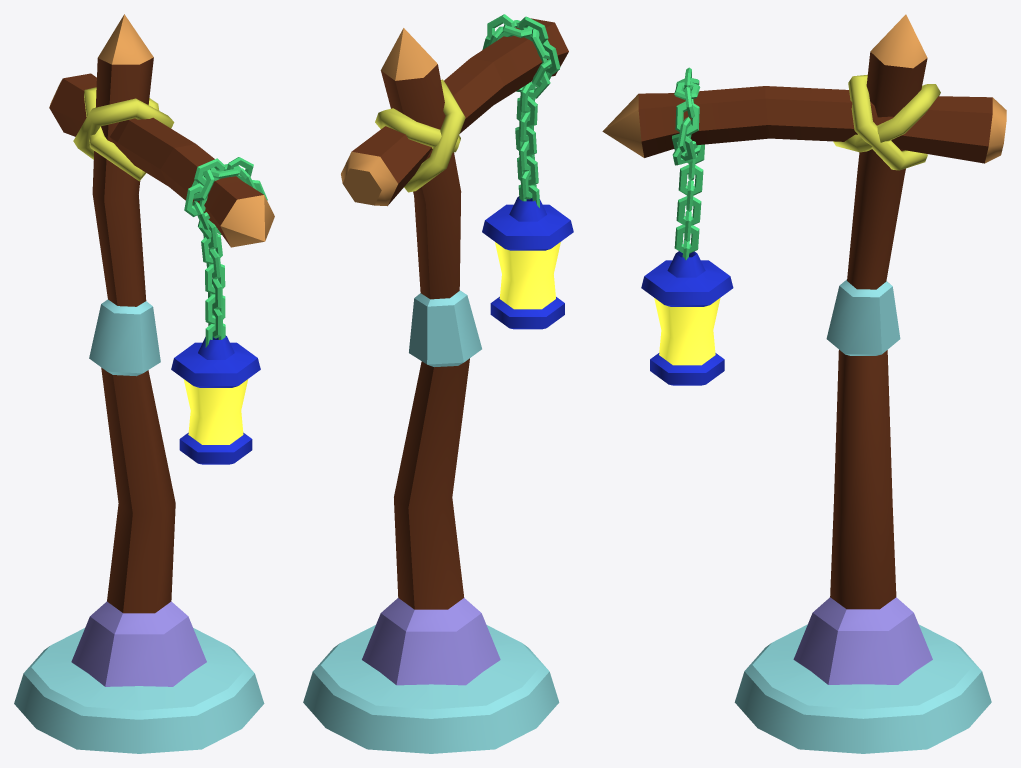
Rendered from back_7_lp.fbx.
The picture shows the model from 3 angles, left to right: view 1: azimuth 30°, elevation 25°; view 2: azimuth 150°, elevation 25°; view 3: azimuth 270°, elevation 25°; orthographic projection. The views are drawn at different scales.
Visible parts, largest first — view 1: back_7lp; view 2: back_7lp; view 3: back_7lp.
Boxes of the visible parts, x1,y1,x2,y2 form: back_7lp: (14,14,274,753); back_7lp: (303,14,573,753); back_7lp: (602,14,1006,753).
Size of the model in its own units: 171 by 535 by 283.
